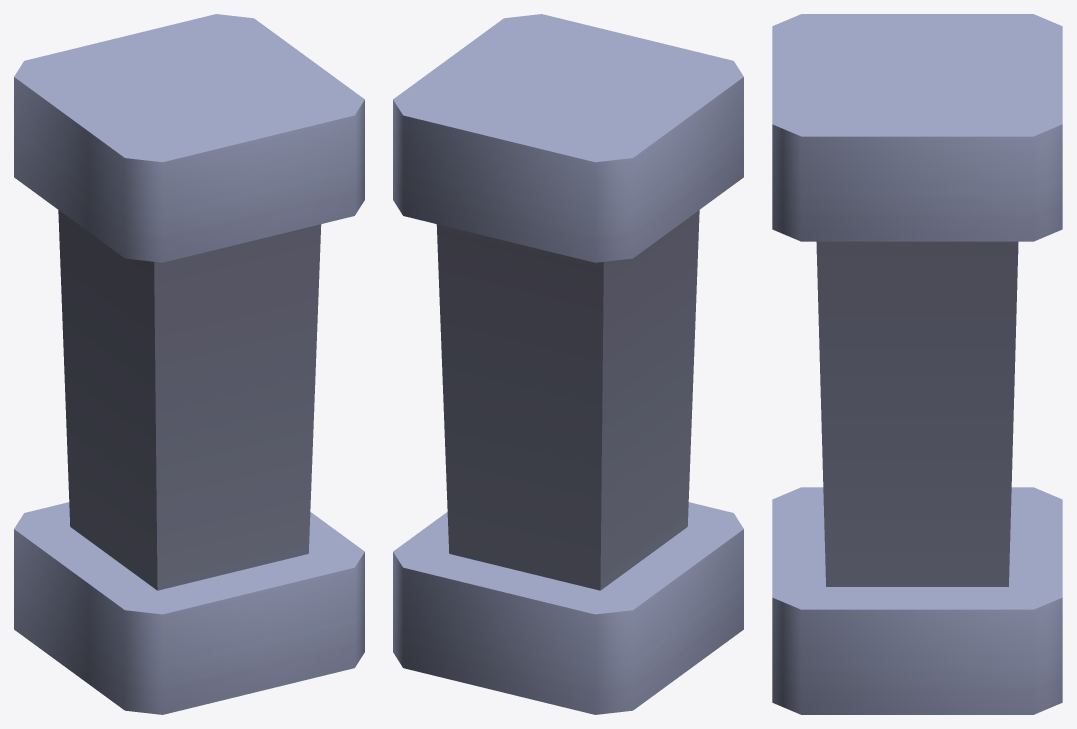
File: stone_column.glb
3 renders of one model, left to right at view 1: azimuth 30°, elevation 25°; view 2: azimuth 150°, elevation 25°; view 3: azimuth 270°, elevation 25°, orthographic. The views are drawn at different scales.
Visible parts, largest first — view 1: column; view 2: column; view 3: column.
Part boxes in pixels (x1=…): column: x1=14, y1=14, x2=364, y2=714; column: x1=393, y1=14, x2=743, y2=714; column: x1=772, y1=14, x2=1062, y2=714.
Size of the model in its own units: 0.5 by 1.1 by 0.5.
1 material, 1 textured.
